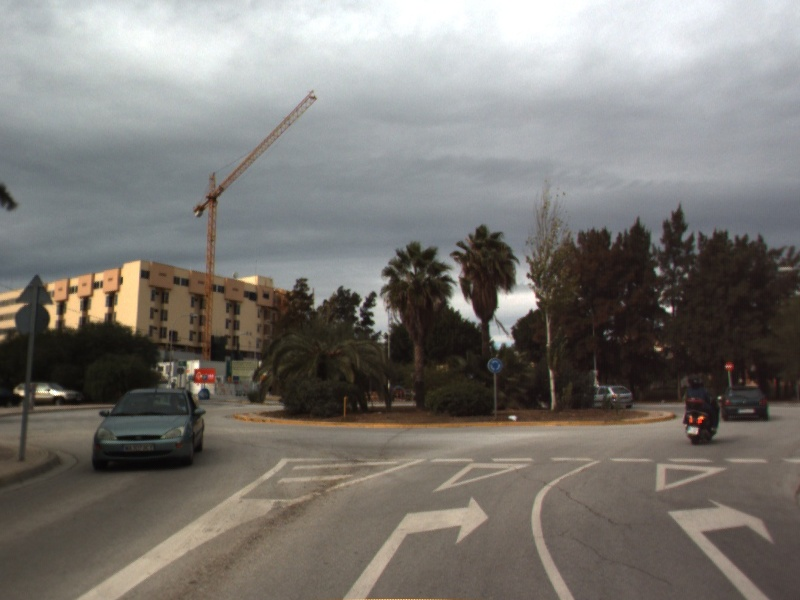RIGHT: (341, 492, 493, 600), (663, 495, 779, 600)
